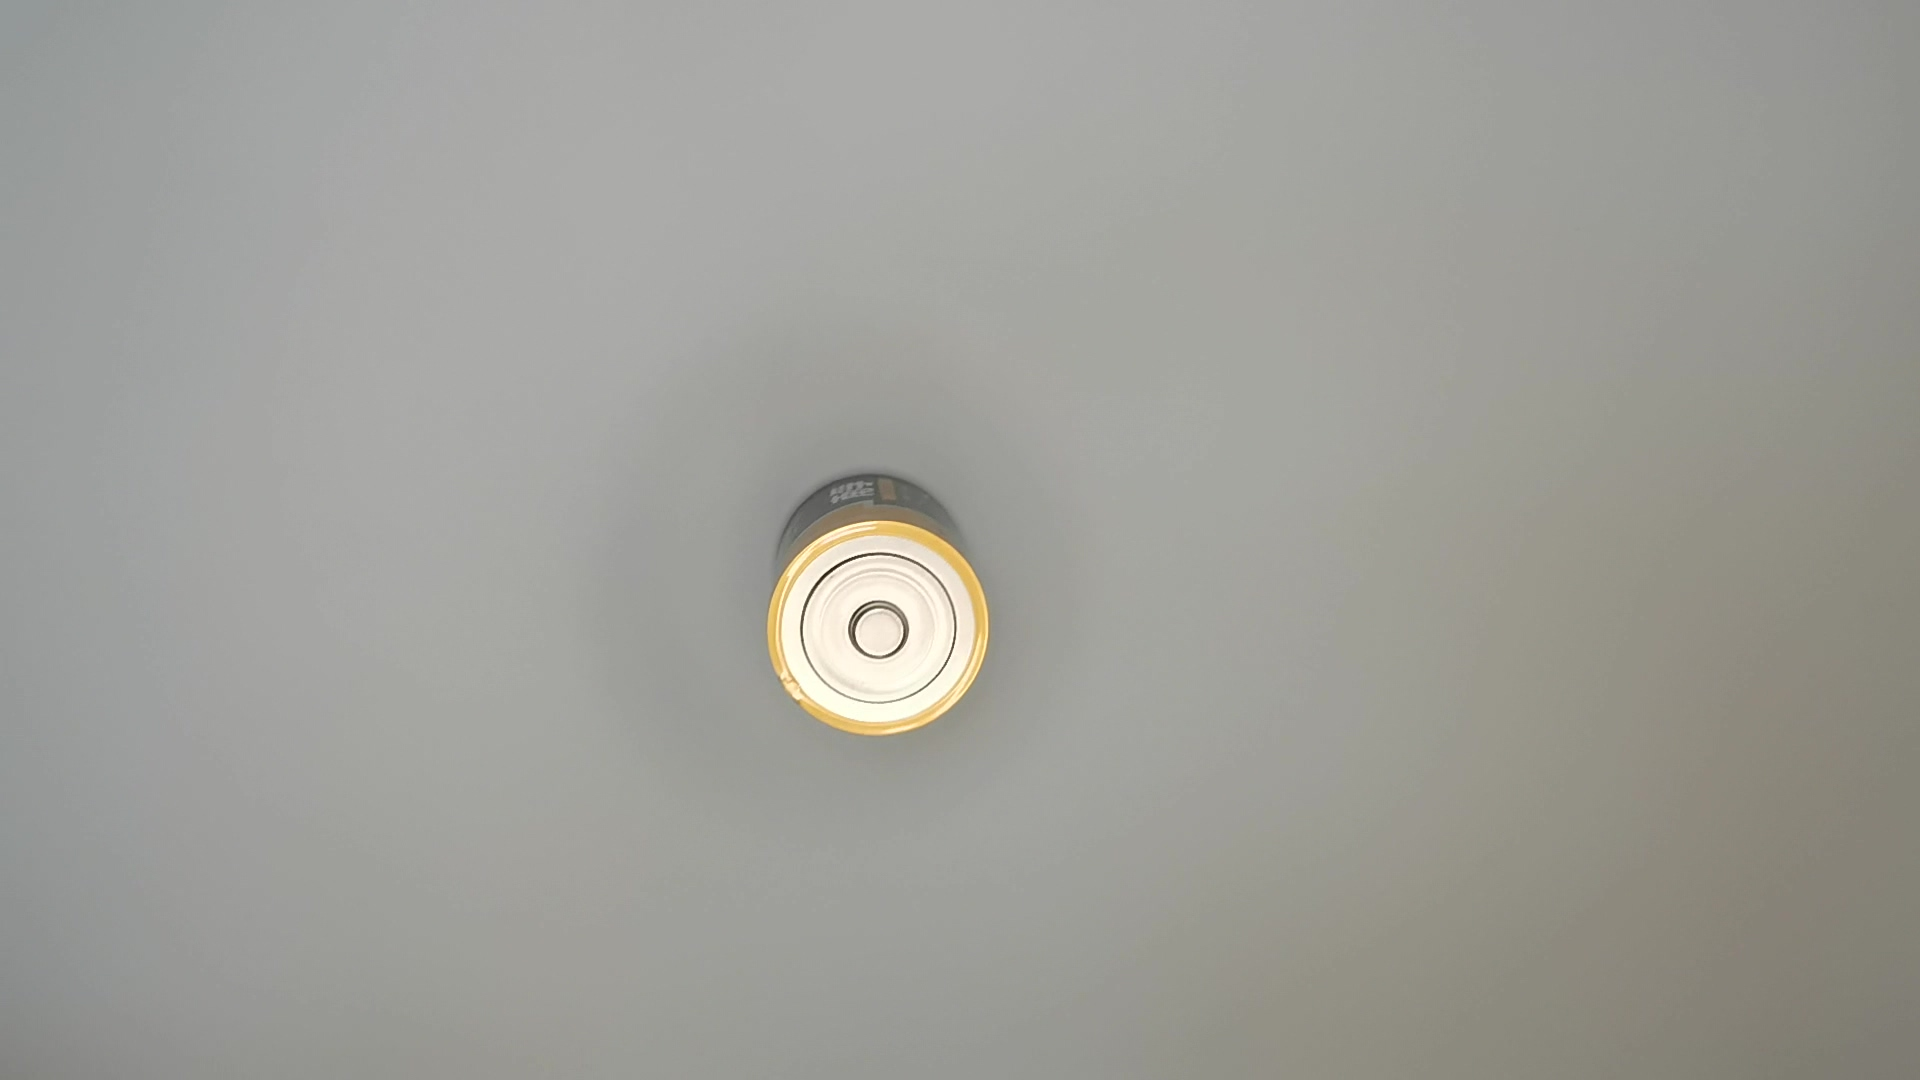battery: (764, 471, 993, 741)
